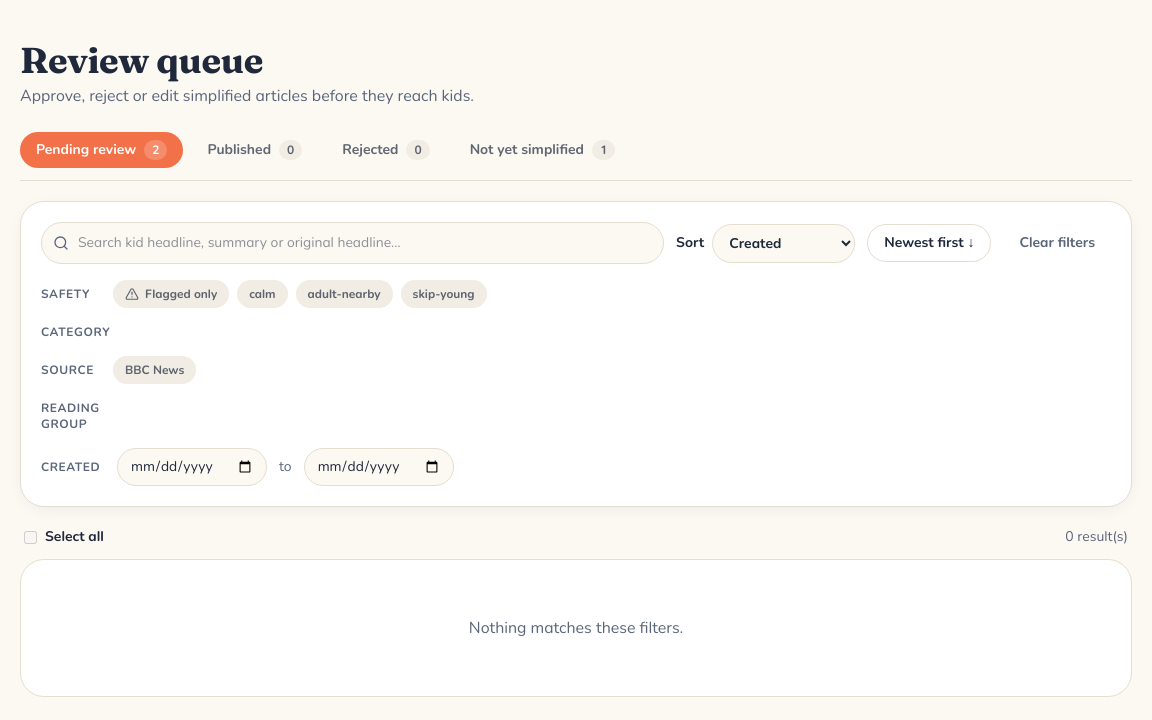
Scenario: the waiting tab › lists the original adult headline and its source
Step 1. Click the button "Not yet simplified 1" → (542, 150), box [454, 132, 631, 168]
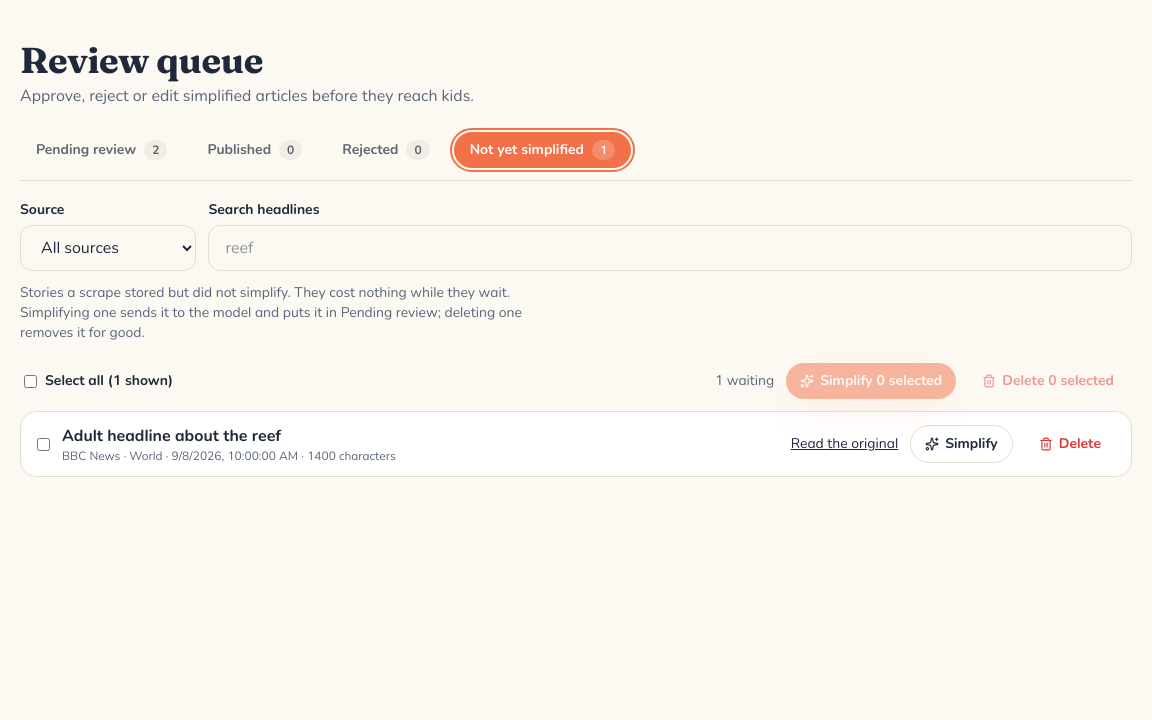
Now the text "Adult headline about the reef" is shown, box [62, 425, 281, 447]
Now the text "BBC News · World · 9/8/2026, 10:00:00 AM · 1400 characters" is shown, box [62, 448, 396, 464]
